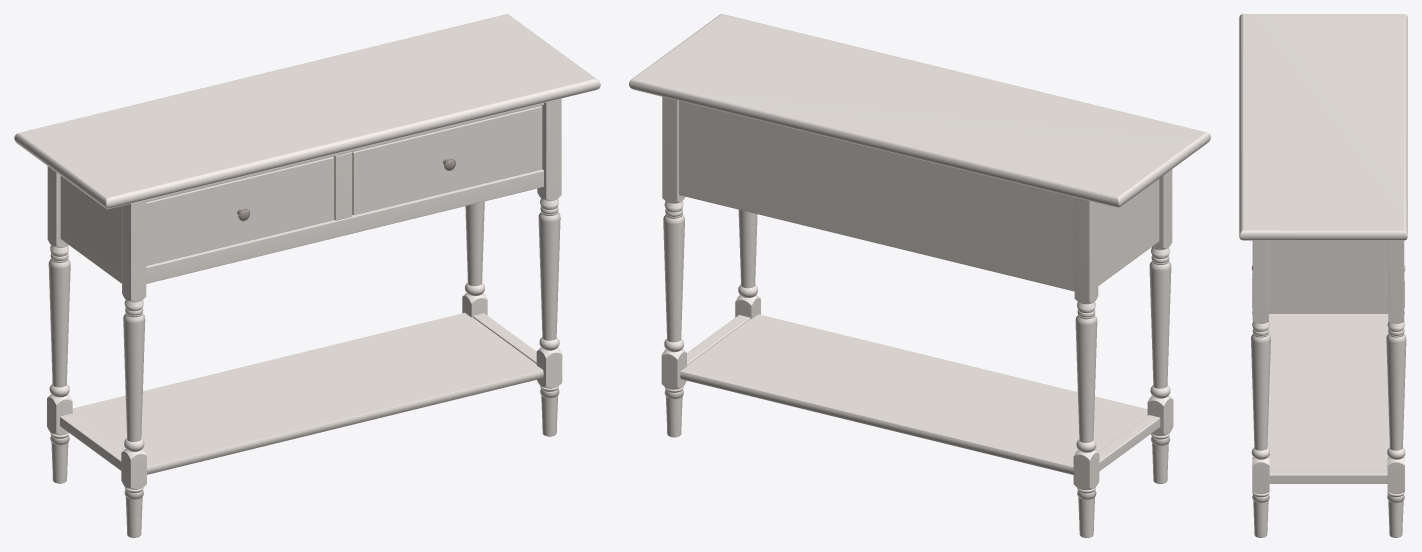
The model's file is abo-B07DBGJ5PM.glb.
The picture shows the model from 3 angles, left to right: view 1: azimuth 30°, elevation 25°; view 2: azimuth 150°, elevation 25°; view 3: azimuth 270°, elevation 25°; orthographic projection. The views are drawn at different scales.
Bounding box in the file's own units: 1.19 × 0.814 × 0.386.
1 material, 1 textured.
